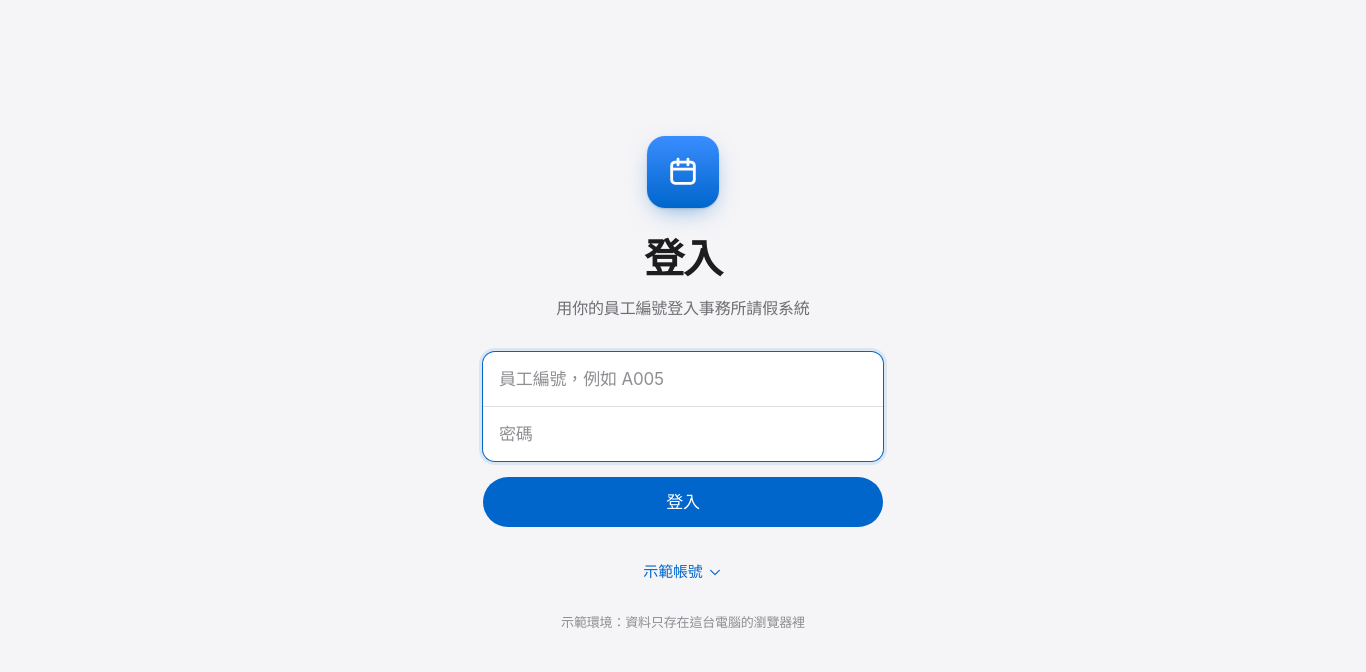
it: app shell › logs in from the login page and lands on the dashboard
Type "A005" into the field labelled "員工編號" at (683, 379), box [483,352,883,406]
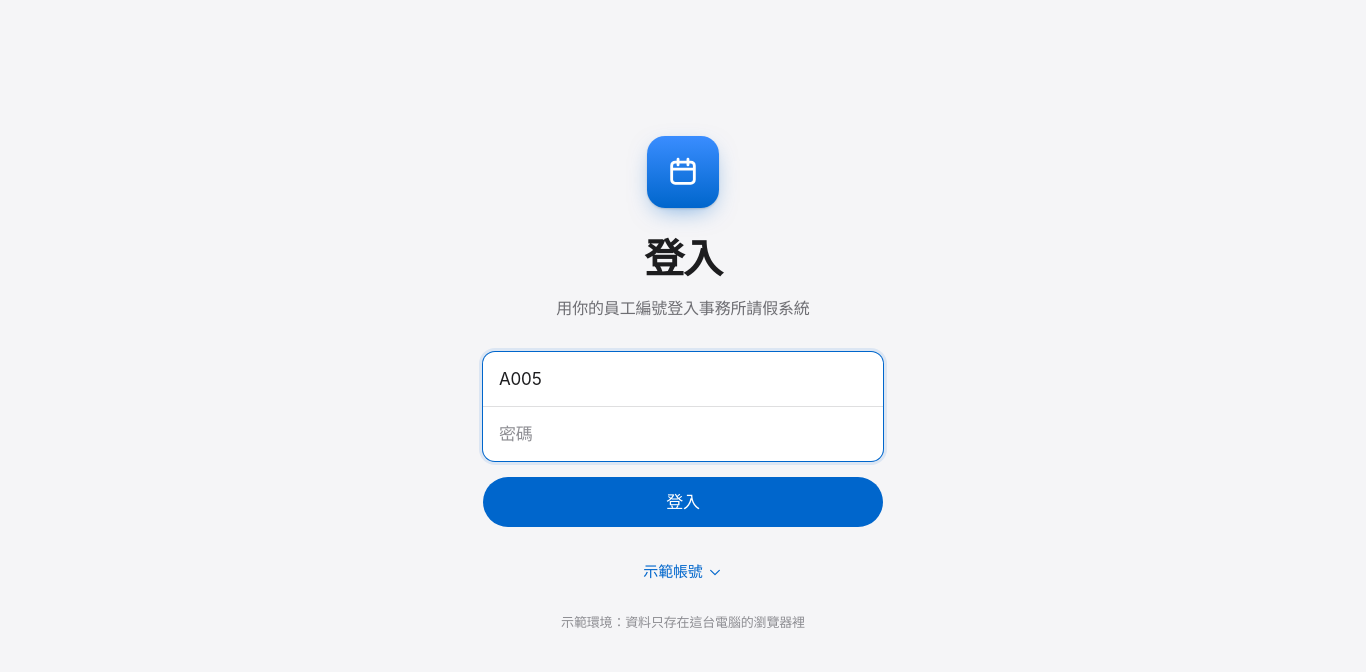
Type "demo1234" into the password field labelled "密碼" at (683, 434), box [483,407,883,461]
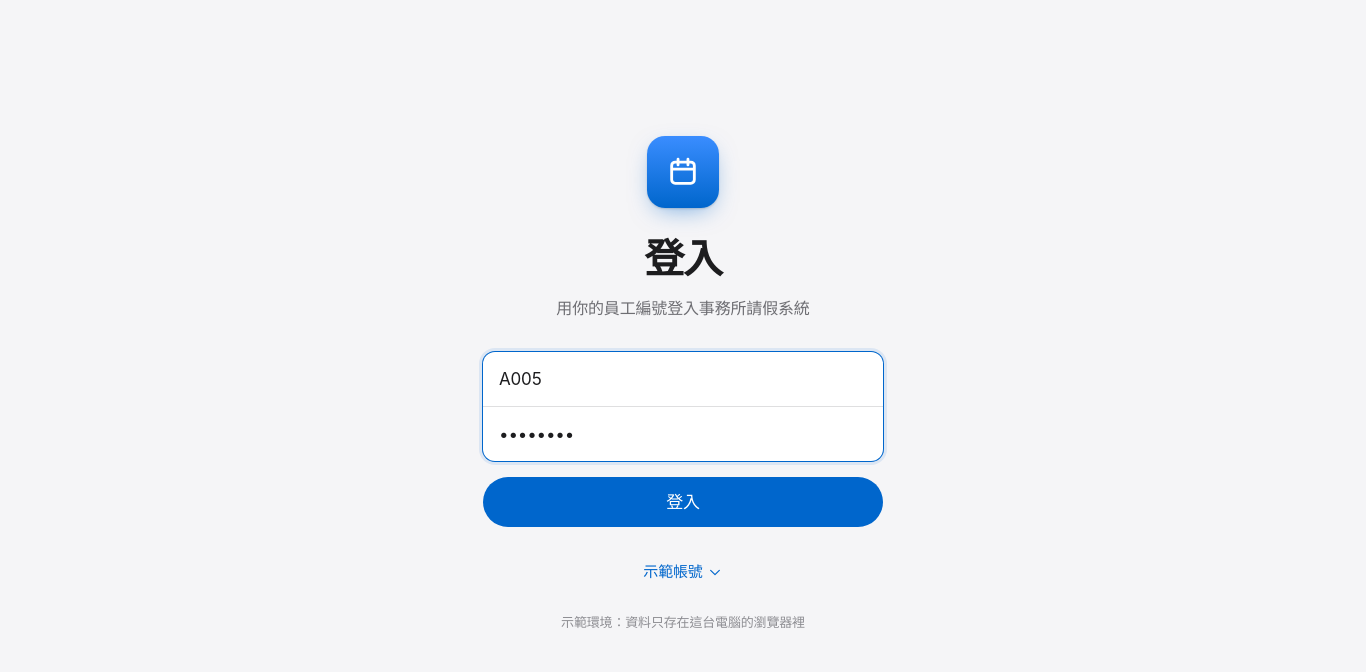
Click the button "登入" at (683, 502), box [483,477,883,527]
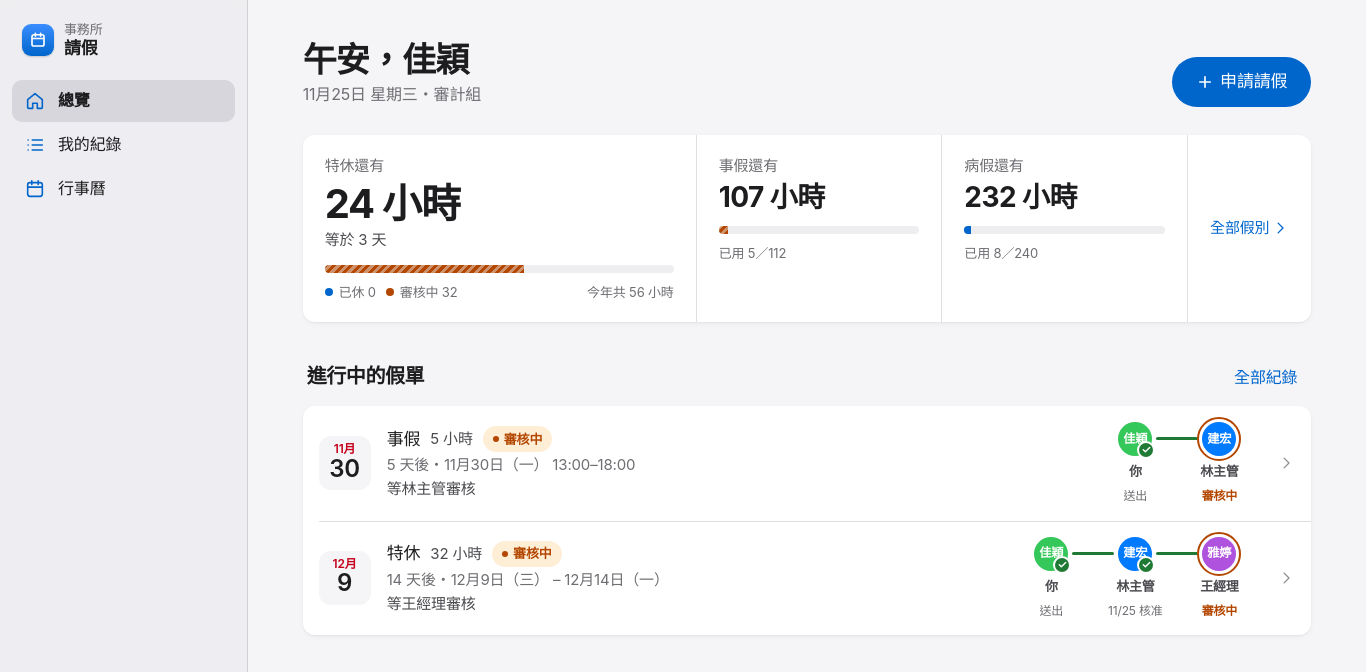
expect the heading "午安，佳穎" is shown: met, box [303,40,481,79]
